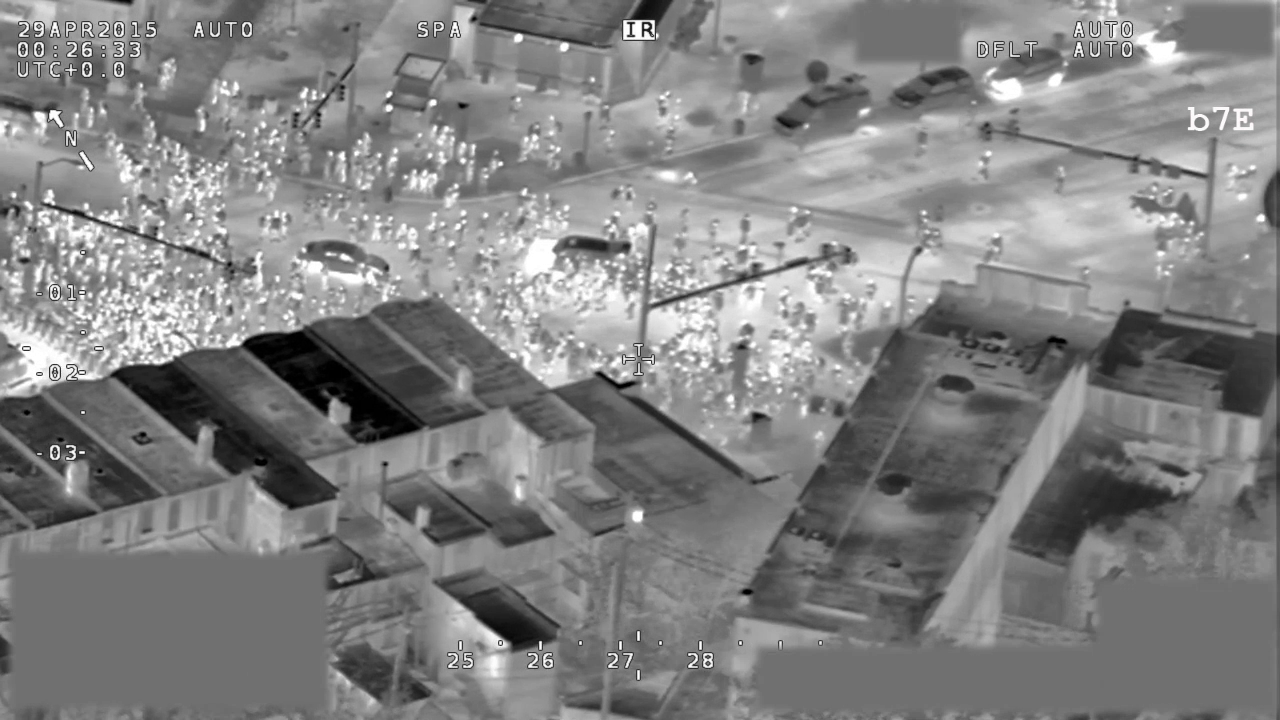vehicle: (767, 56, 883, 151), (517, 227, 637, 290), (287, 233, 396, 294), (980, 43, 1071, 103), (1132, 17, 1228, 66), (886, 64, 977, 115)
